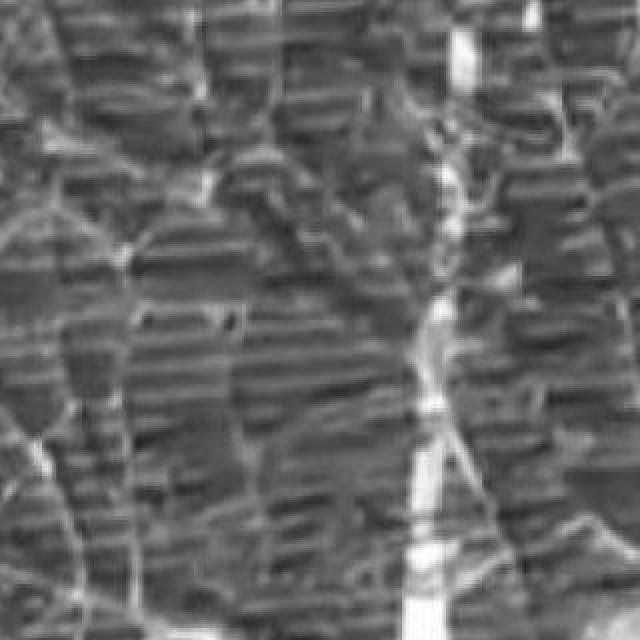Physical-damage: (6, 10, 640, 618)
